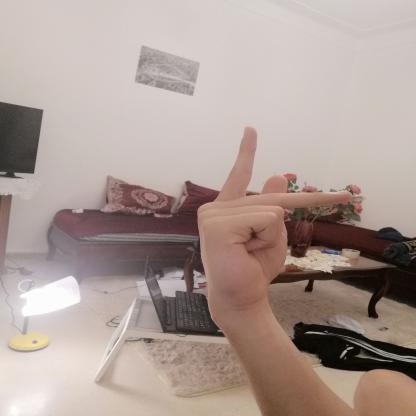DHAA: (177, 116, 361, 319)
